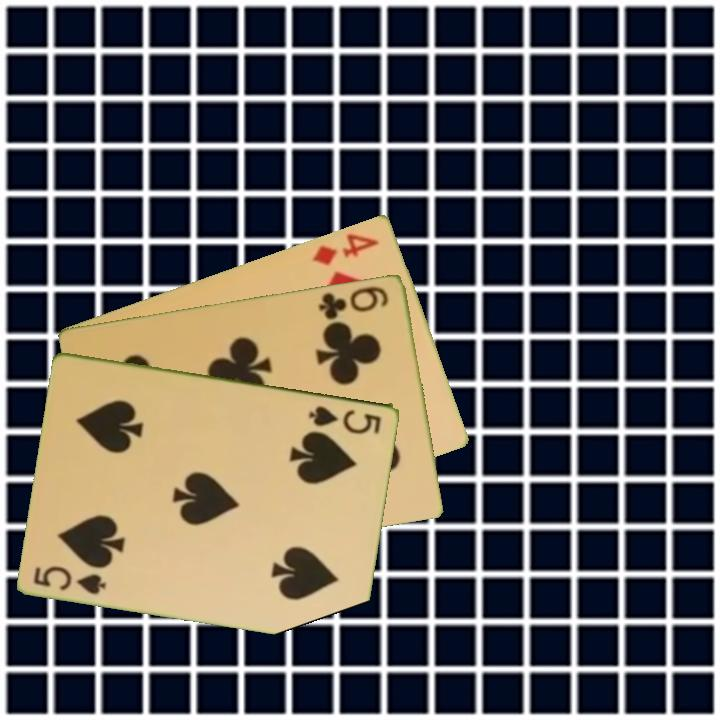4d: (308, 229, 382, 268)
5s: (30, 562, 110, 597), (305, 402, 385, 436)
6c: (315, 282, 392, 322)
